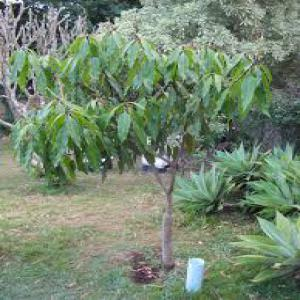Tree: (6, 20, 275, 277)
